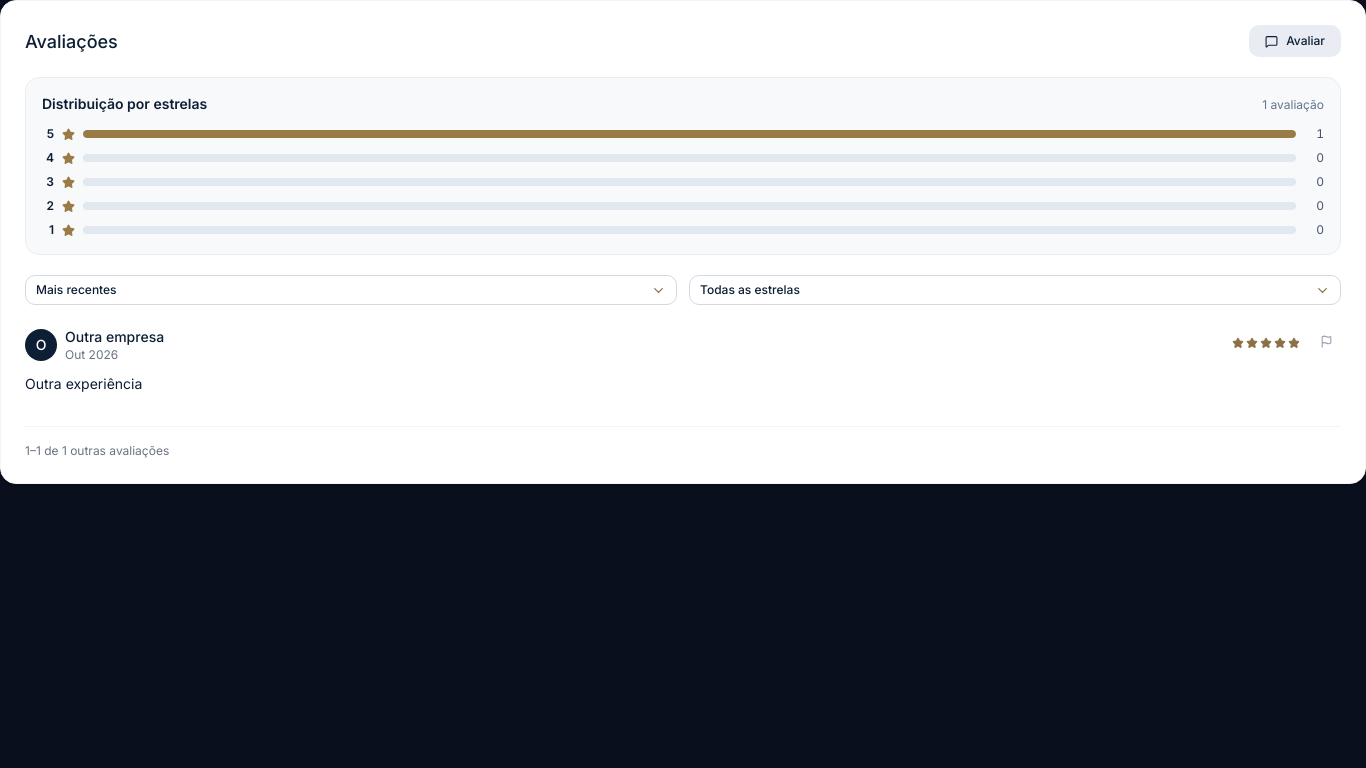
Scenario: Avaliações escritas por admins com perfil de membro › o admin com perfil avalia outro membro
Click the button "Avaliar" at (1295, 41), box [1249,25,1341,57]
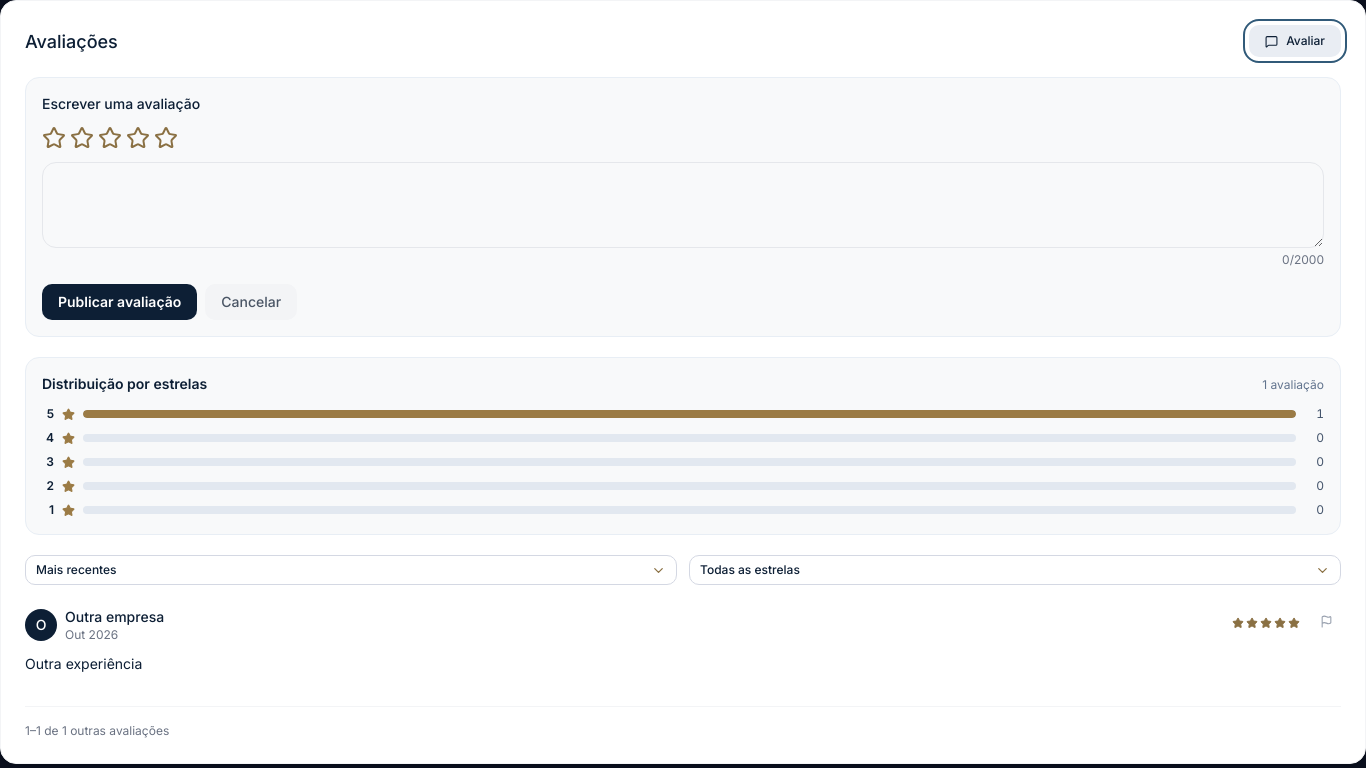
Click the radio button named "4 estrelas" at (138, 138), box [126,126,150,150]
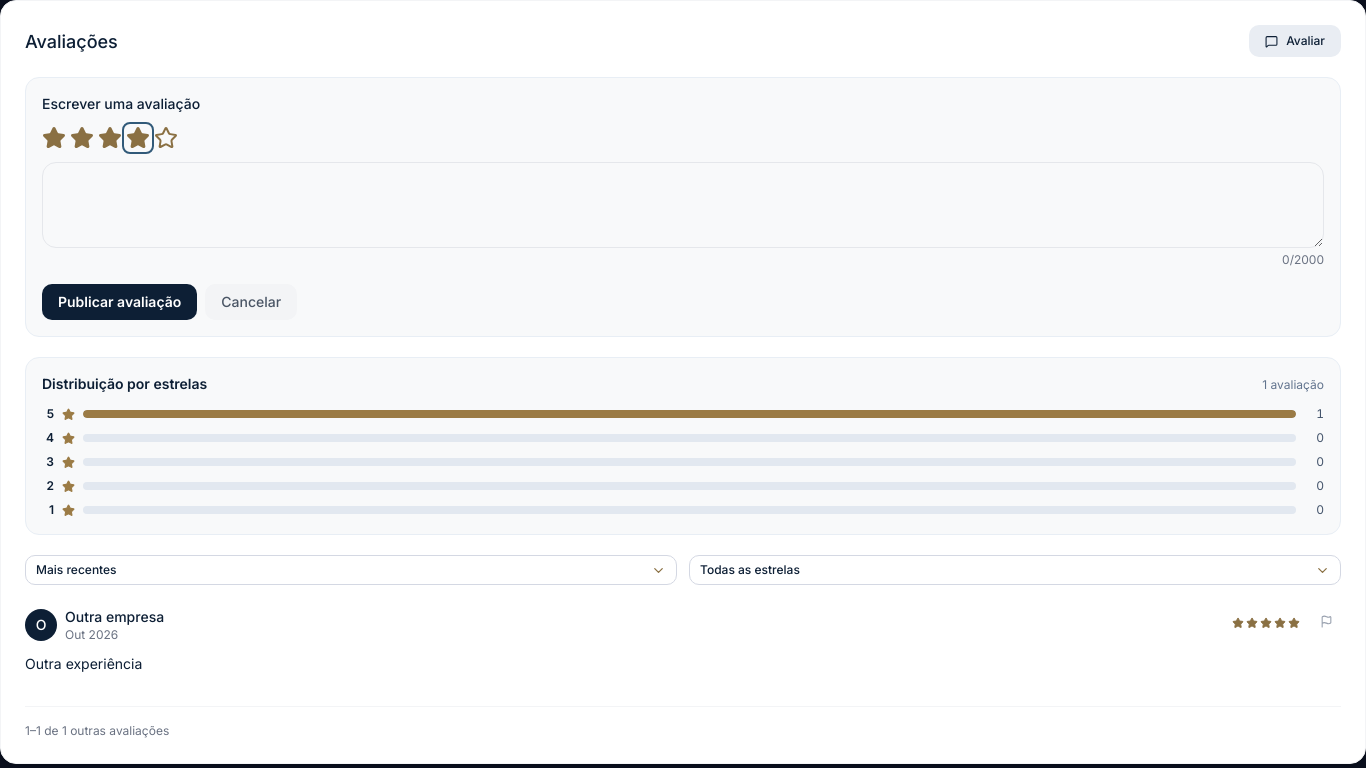
Type "Bom serviço" into the text box at (683, 205), box [42,162,1324,248]
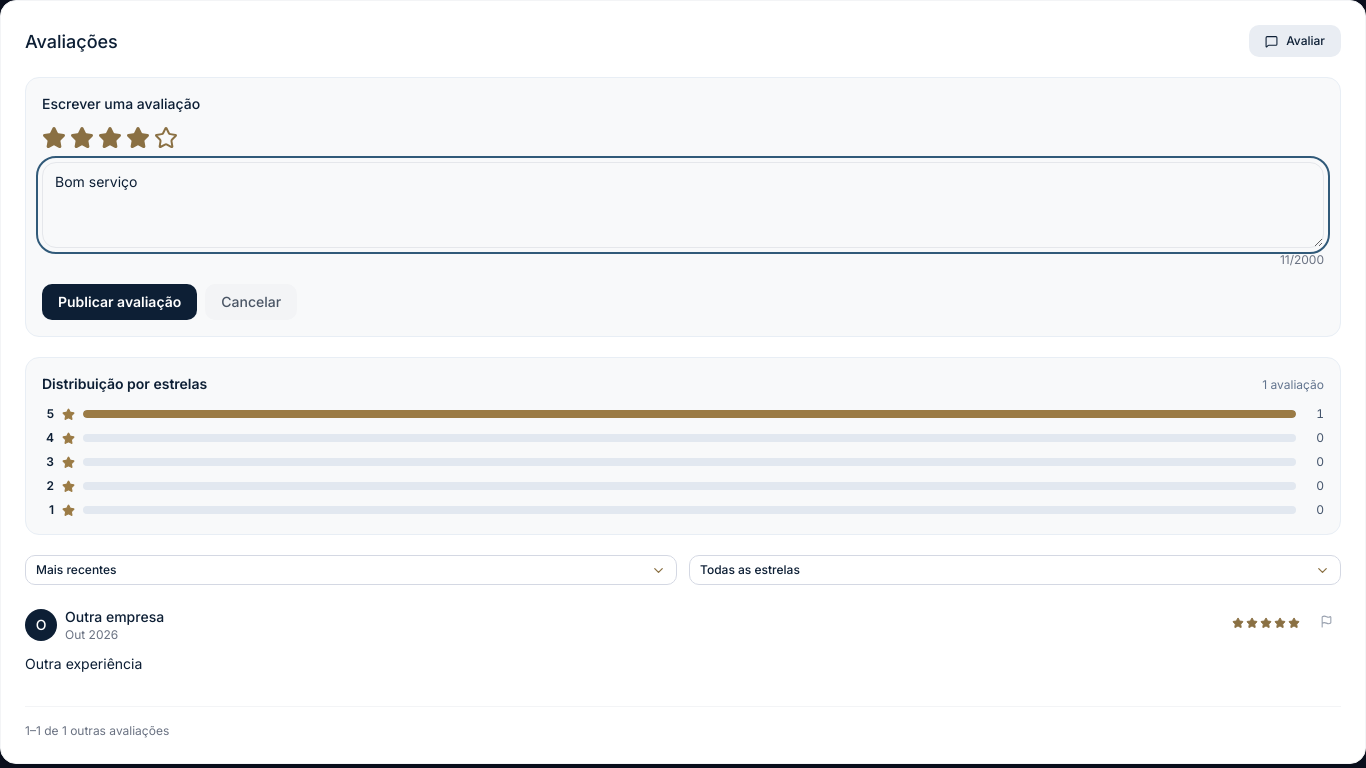
Click the button "Publicar avaliação" at (120, 302), box [42,284,197,320]
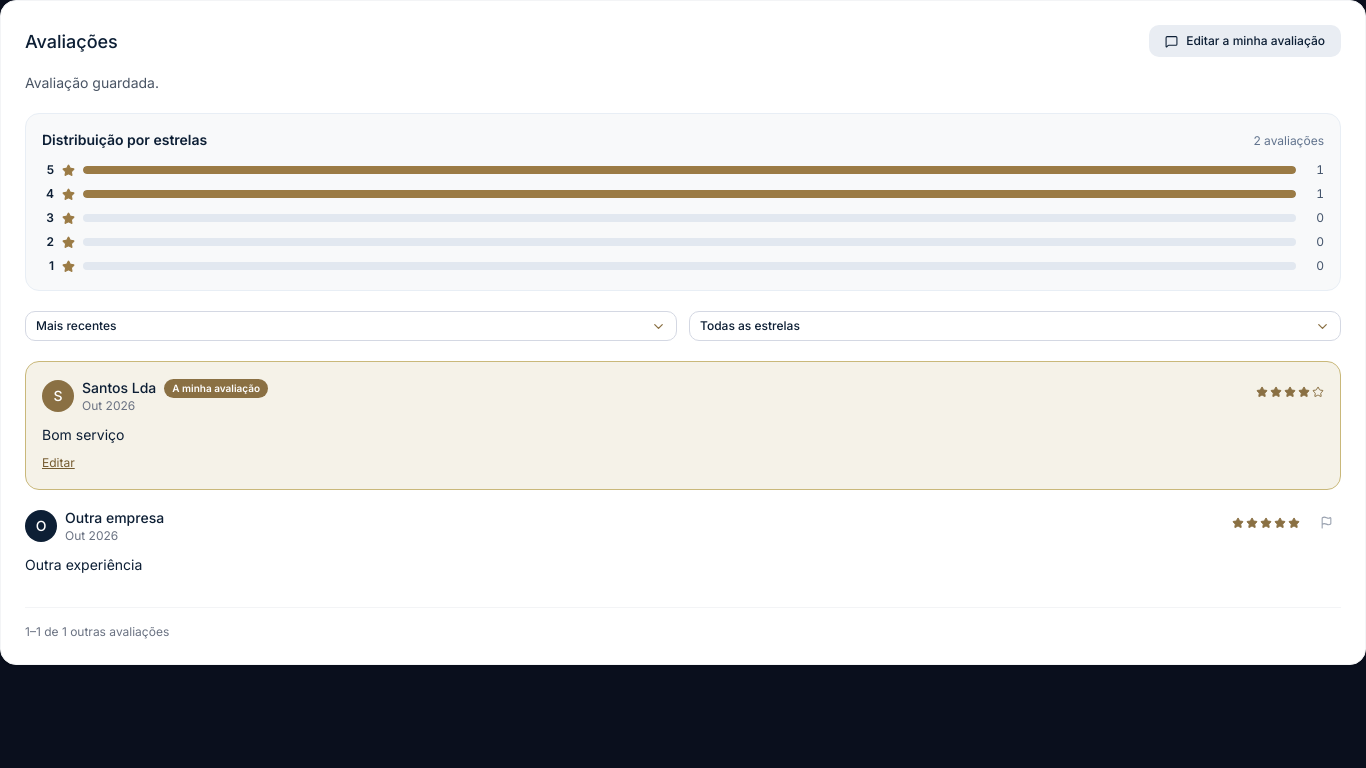
Expected: the text "A minha avaliação" is shown, [164,378,268,398]
